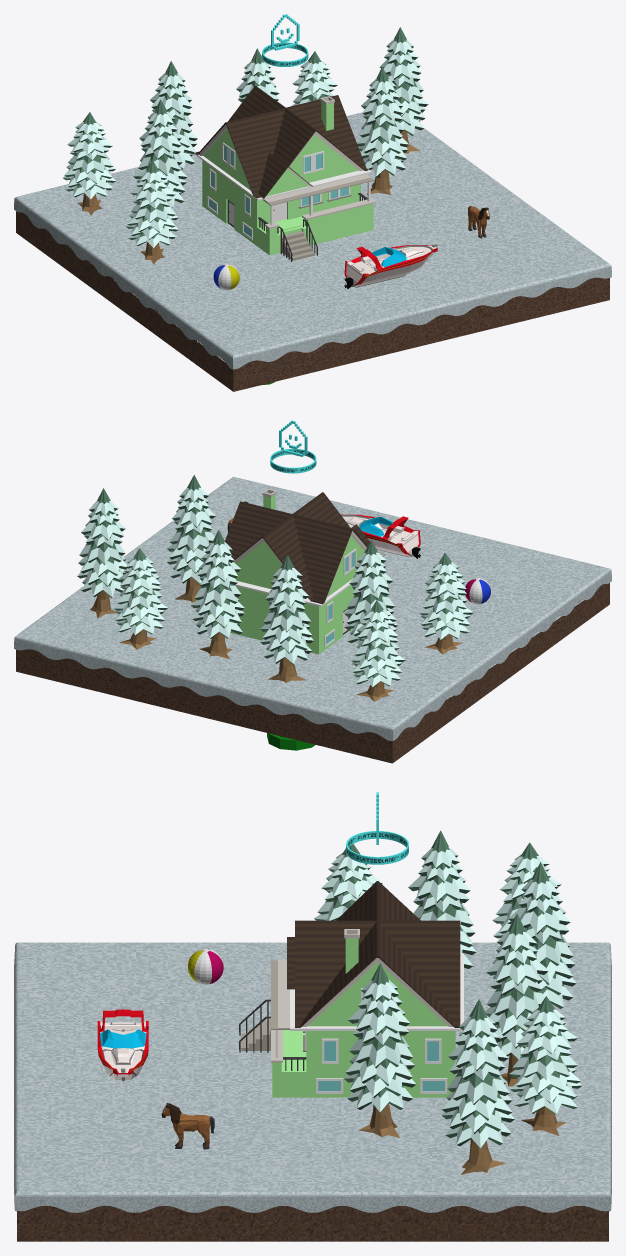
3 renders of one model, top to bottom at view 1: azimuth 30°, elevation 25°; view 2: azimuth 150°, elevation 25°; view 3: azimuth 270°, elevation 25°, orthographic. The views are drawn at different scales.
Parts seen in each view (by area): view 1: Cube.003, Cube.274, VEHICLES_BOAT, TYPE_PREMIUM, OBJRANDOM_BEACHBALL, ANIMAL_CABALLO; view 2: Cube.003, Cube.274, VEHICLES_BOAT, TYPE_PREMIUM, OBJRANDOM_BEACHBALL, UNDERGROUND_PIPES; view 3: Cube.003, Cube.274, VEHICLES_BOAT, TYPE_PREMIUM, ANIMAL_CABALLO, OBJRANDOM_BEACHBALL.
Part boxes in pixels (x1,y1,x2,y2): Cube.003: (14, 27, 611, 391); Cube.274: (194, 85, 376, 261); VEHICLES_BOAT: (344, 244, 437, 288); TYPE_PREMIUM: (262, 14, 308, 66); OBJRANDOM_BEACHBALL: (213, 263, 239, 290); ANIMAL_CABALLO: (468, 206, 489, 238); Cube.003: (14, 475, 611, 763); Cube.274: (225, 489, 388, 654); VEHICLES_BOAT: (341, 514, 420, 558); TYPE_PREMIUM: (270, 420, 316, 473); OBJRANDOM_BEACHBALL: (464, 578, 490, 604); UNDERGROUND_PIPES: (267, 733, 315, 750); Cube.003: (14, 830, 611, 1241); Cube.274: (239, 881, 463, 1097); VEHICLES_BOAT: (97, 1009, 148, 1081); TYPE_PREMIUM: (346, 792, 408, 864); ANIMAL_CABALLO: (161, 1103, 214, 1149); OBJRANDOM_BEACHBALL: (188, 948, 223, 984).
Size of the model in its own units: 4040 by 3051 by 4040.
Materials: 34 (4 with a texture image).
